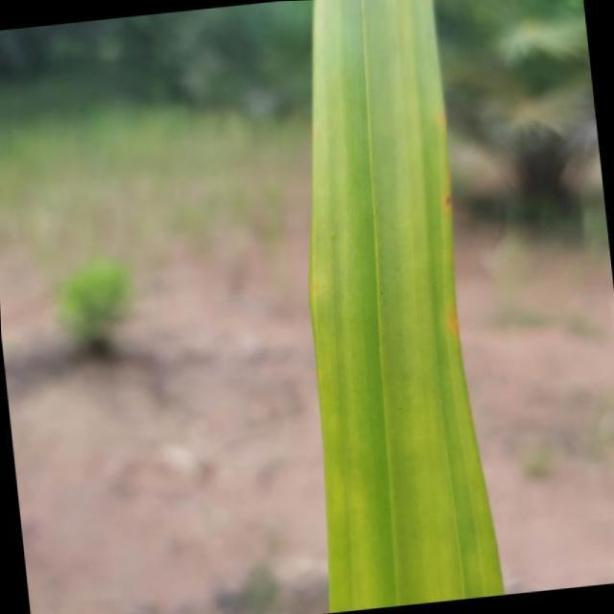nitrogen: (310, 0, 507, 614)
